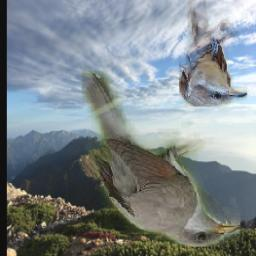Cuckoo: (83, 71, 241, 247), (179, 0, 247, 107)
